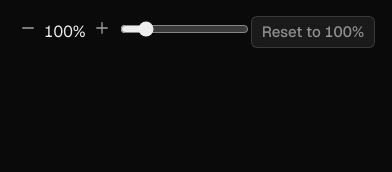
Test case: UiScaleControl: pending value of the - and + buttons › three quick clicks show 110, 120, 130 at once and apply 130 once, after the wait
The image size is (392, 172).
Click the button named "Increase UI scale".
click(102, 28)  # box [86,12,118,44]
Wait 300 ms
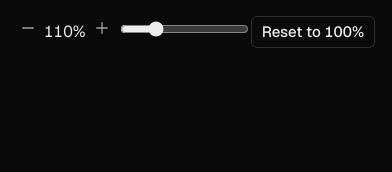
Result: the slider named "UI scale" holds "110" at [120,21,249,37]
Click the button named "Increase UI scale".
click(102, 28)  # box [86,12,118,44]
Wait 300 ms
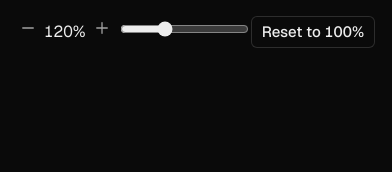
Click the button named "Increase UI scale".
click(102, 28)  # box [86,12,118,44]
Wait 5700 ms
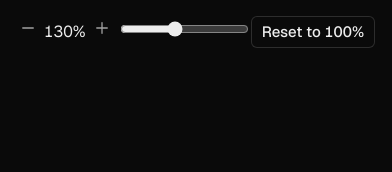
Result: the slider named "UI scale" holds "130" at [120,21,249,37]
